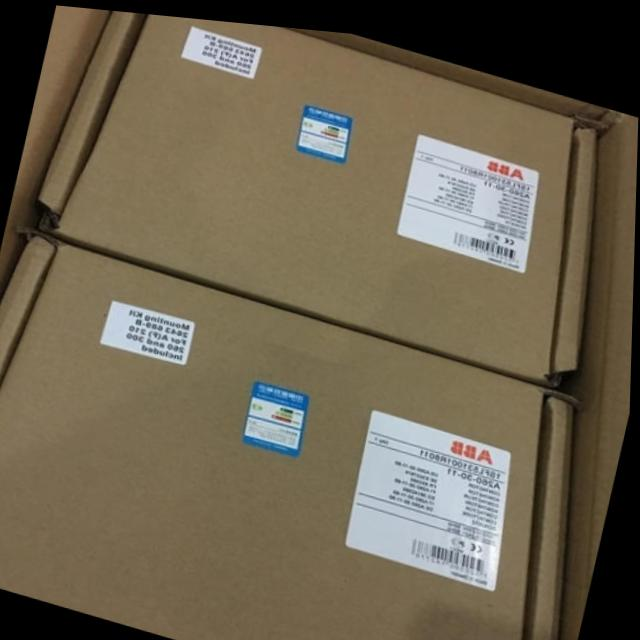box: (0, 235, 579, 640), (35, 8, 599, 378)
